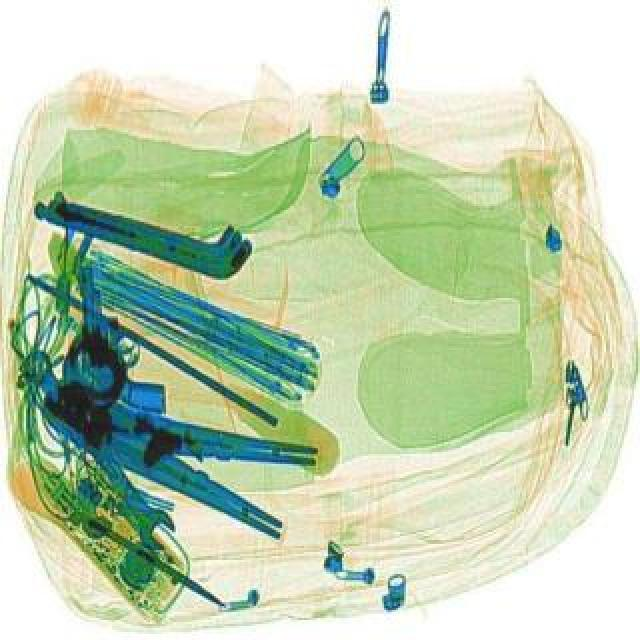gun: (72, 264, 168, 406)
scissors: (10, 340, 186, 558)
